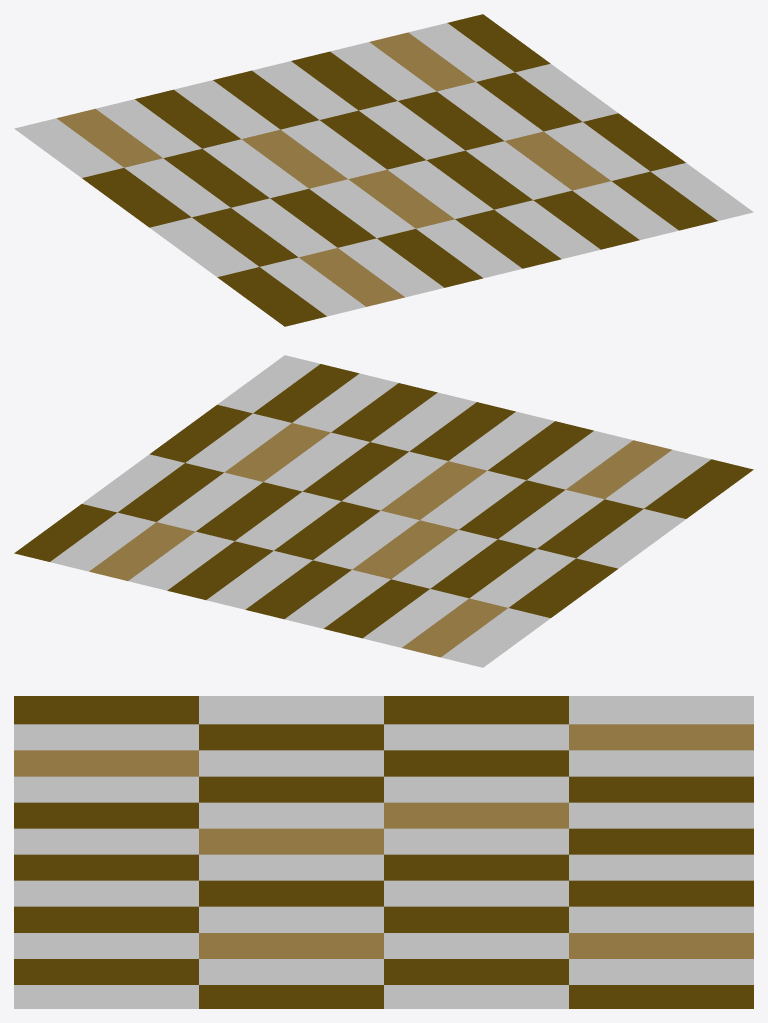
The picture shows the model from 3 angles, top to bottom: view 1: azimuth 30°, elevation 25°; view 2: azimuth 150°, elevation 25°; view 3: azimuth 270°, elevation 25°; orthographic projection. The views are drawn at different scales.
Parts seen in each view (by area): view 1: Plane; view 2: Plane; view 3: Plane.
Part boxes in pixels (box(x1,y1,x2,y2)): Plane: box(14, 14, 753, 326); Plane: box(14, 355, 753, 667); Plane: box(14, 696, 753, 1008).
Size of the model in its own units: 600 by 9.78e-05 by 600.
